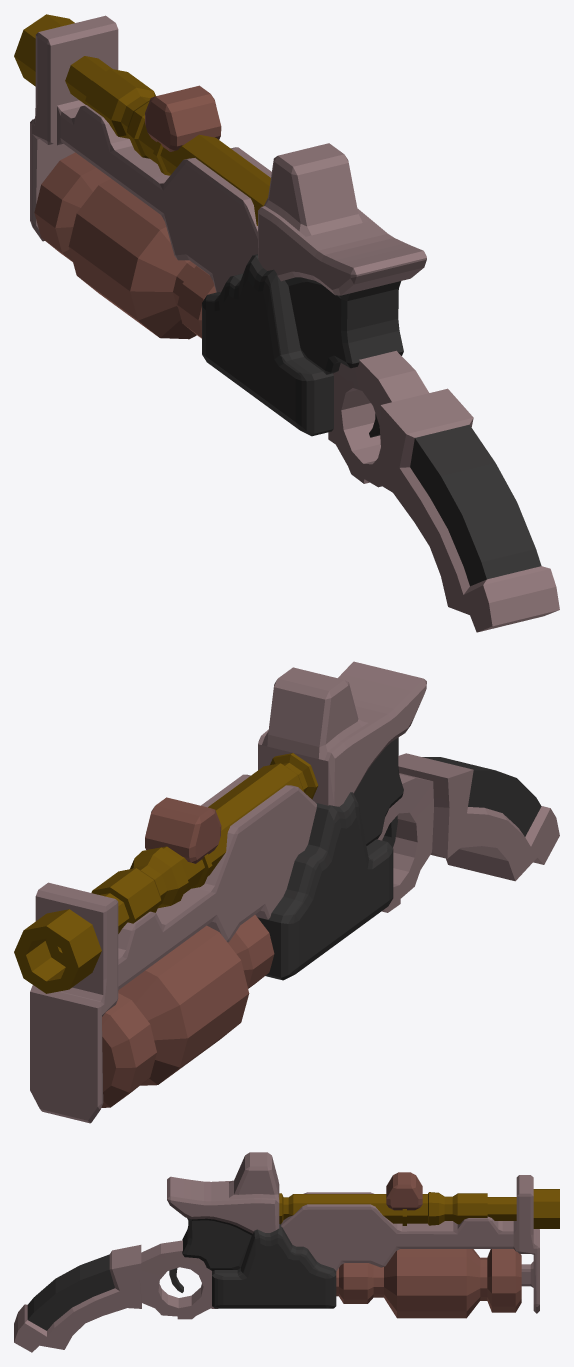
Rendered from longGunEdited.fbx.
The picture shows the model from 3 angles, top to bottom: view 1: azimuth 30°, elevation 25°; view 2: azimuth 150°, elevation 25°; view 3: azimuth 270°, elevation 25°; orthographic projection. The views are drawn at different scales.
Parts seen in each view (by area): view 1: LongPistol_small; view 2: LongPistol_small; view 3: LongPistol_small.
Boxes of the visible parts, x1,y1,x2,y2 form: LongPistol_small: (14,14,559,632); LongPistol_small: (14,661,559,1123); LongPistol_small: (14,1152,559,1352).
Size of the model in its own units: 63.85 by 166 by 445.
